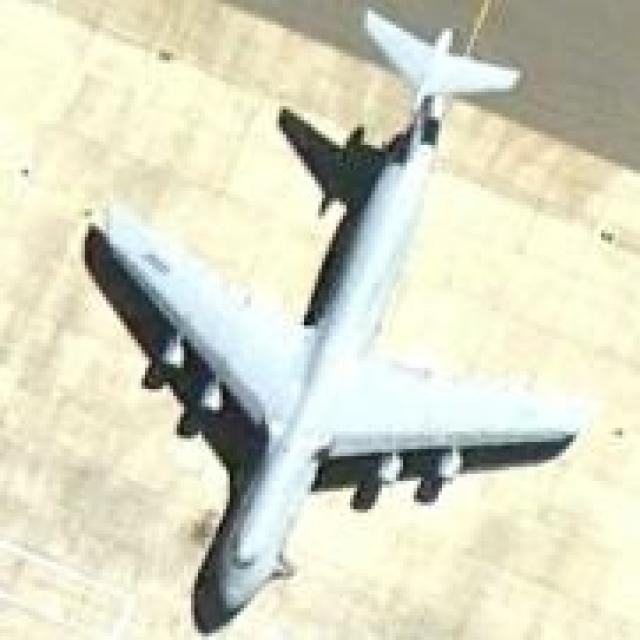C-5_TopDown: (74, 3, 587, 633)
